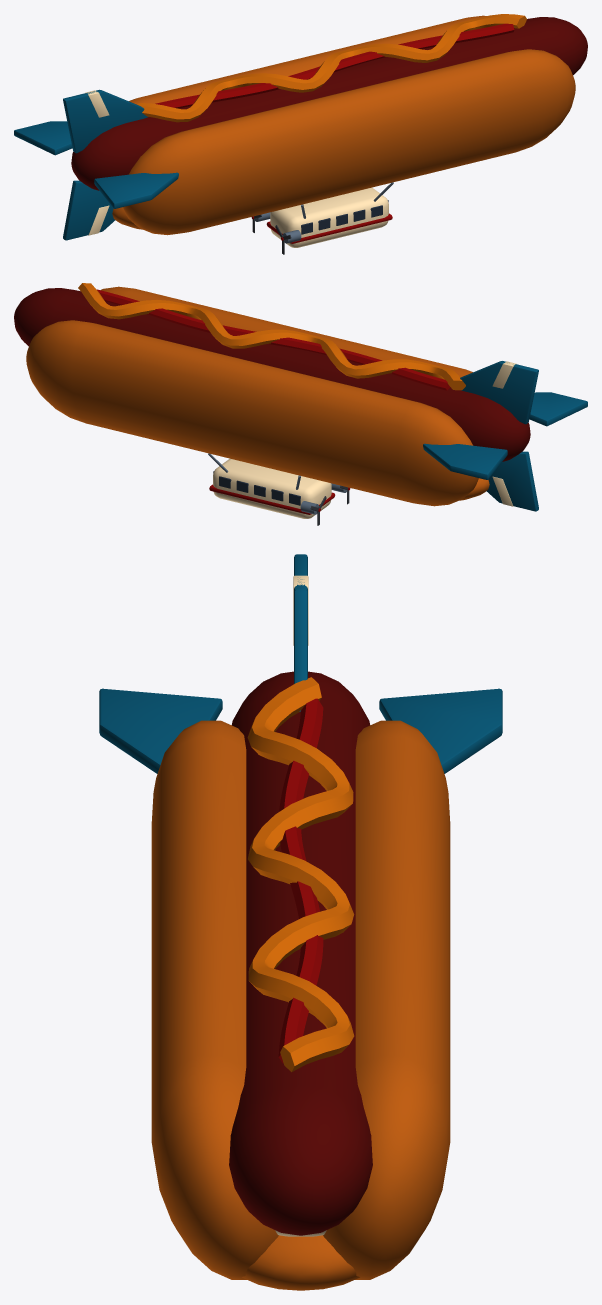
Rendered from Blimp.obj.
The picture shows the model from 3 angles, top to bottom: view 1: azimuth 30°, elevation 25°; view 2: azimuth 150°, elevation 25°; view 3: azimuth 270°, elevation 25°; orthographic projection. The views are drawn at different scales.
Parts seen in each view (by area): view 1: Blimp; view 2: Blimp; view 3: Blimp.
Part boxes in pixels (x1,y1,x2,y2): Blimp: [14, 14, 587, 254]; Blimp: [14, 283, 587, 525]; Blimp: [99, 554, 502, 1290].
Size of the model in its own units: 38.78 by 14 by 13.
